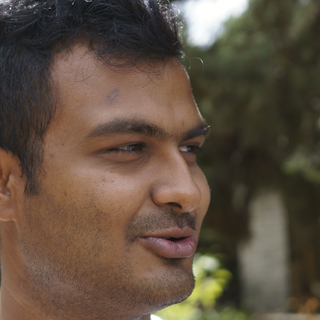eye: (101, 135, 147, 165), (169, 136, 201, 159)
